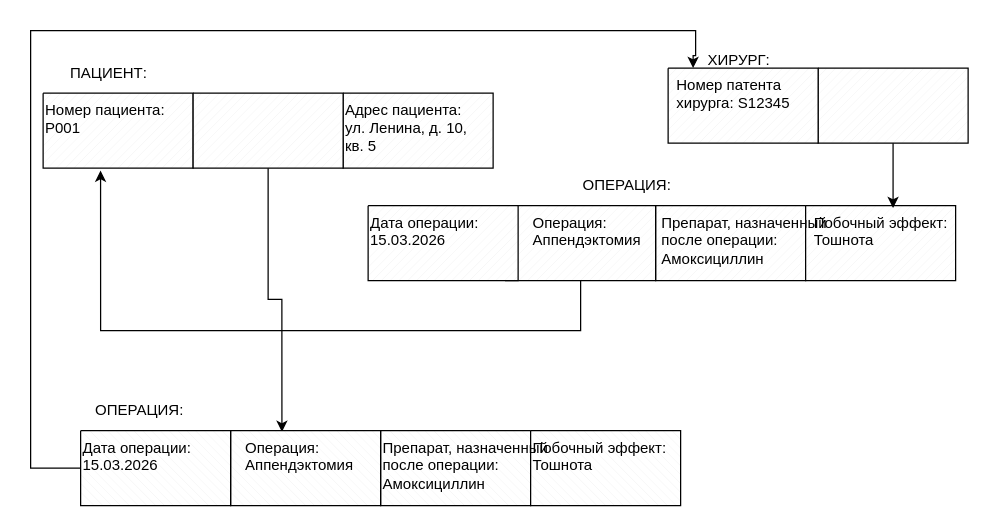
Image size: 990x528. Some labels were removed from this diagram. The shapes that lost their labels are listed below. From the top down, each one's box as (x1, y1, x2, y2) in pixels, then its label:
(817, 67, 968, 143): Имя хирурга: Петров Петр Петрович
(192, 92, 343, 168): Имя пациента: Иванов Иван Петрович
